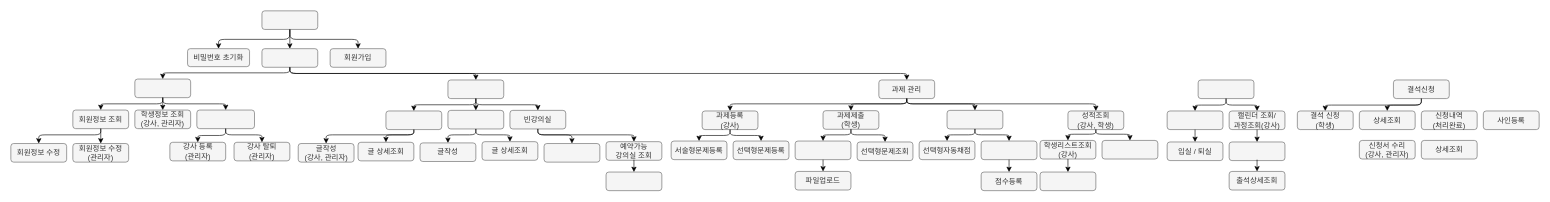
Some shapes in this 1550 by 202 pixel diagram are drawn without their labels. The shapes that lost their labels are listed below. From the top down, each one's box as (x1, y1, x2, y2) in pixels, then its label:
(261, 10, 318, 29): 로그인 페이지
(261, 48, 318, 67): 메인페이지
(134, 78, 191, 98): 마이페이지
(447, 79, 504, 99): 게시판
(1198, 79, 1254, 99): 출결
(196, 109, 255, 129): 강사목록 조회 (관리자)
(385, 110, 442, 130): 공지사항
(447, 110, 504, 129): 자료게시판
(946, 110, 1003, 129): 과제채점 (강사)
(1167, 110, 1223, 130): 상세조회 (학생)
(543, 143, 600, 162): 강의실 목록조회
(795, 140, 851, 160): 서술형문제조회
(981, 140, 1037, 160): 서술형 문제/답안조회
(1101, 140, 1158, 159): 학생점수조회 (학생)
(1229, 141, 1285, 161): 출석부조회
(605, 171, 662, 191): 예약
(1039, 171, 1096, 191): 학생점수조회
